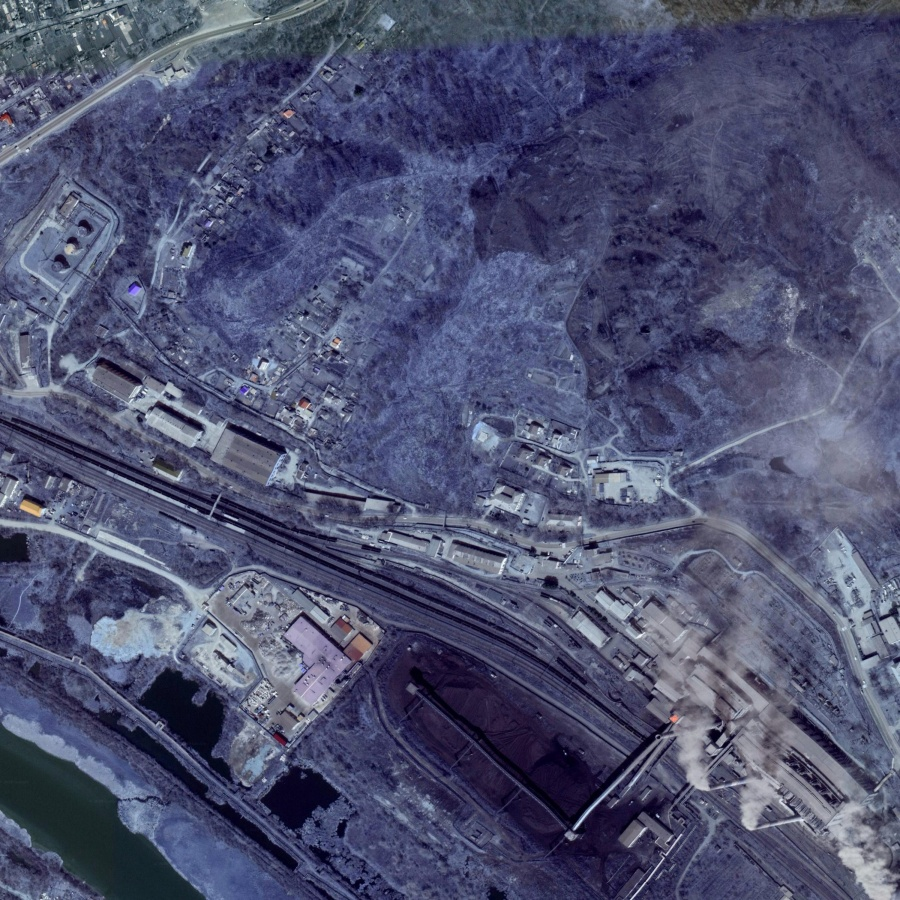PowerPlant: (382, 589, 823, 882)
